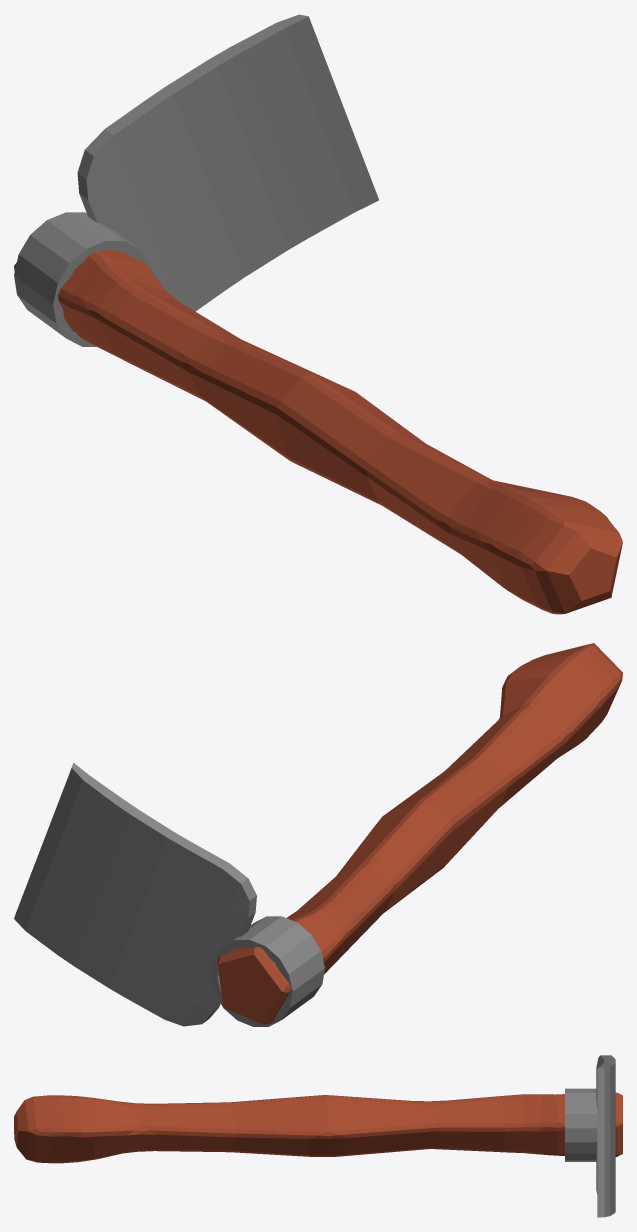
File: hoe.glb
3 views of the same model, one above another, from view 1: azimuth 30°, elevation 25°; view 2: azimuth 150°, elevation 25°; view 3: azimuth 270°, elevation 25° (orthographic). The views are drawn at different scales.
Parts seen in each view (by area): view 1: Hoe; view 2: Hoe; view 3: Hoe.
Boxes of the visible parts, x1,y1,x2,y2 form: Hoe: (14, 14, 622, 614); Hoe: (14, 643, 622, 1026); Hoe: (14, 1055, 622, 1217).
Size of the model in its own units: 2.16 by 1.64 by 5.11.
